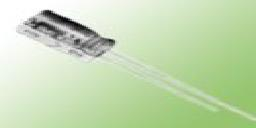Electrolytic-Capacitor: (13, 7, 256, 124)
